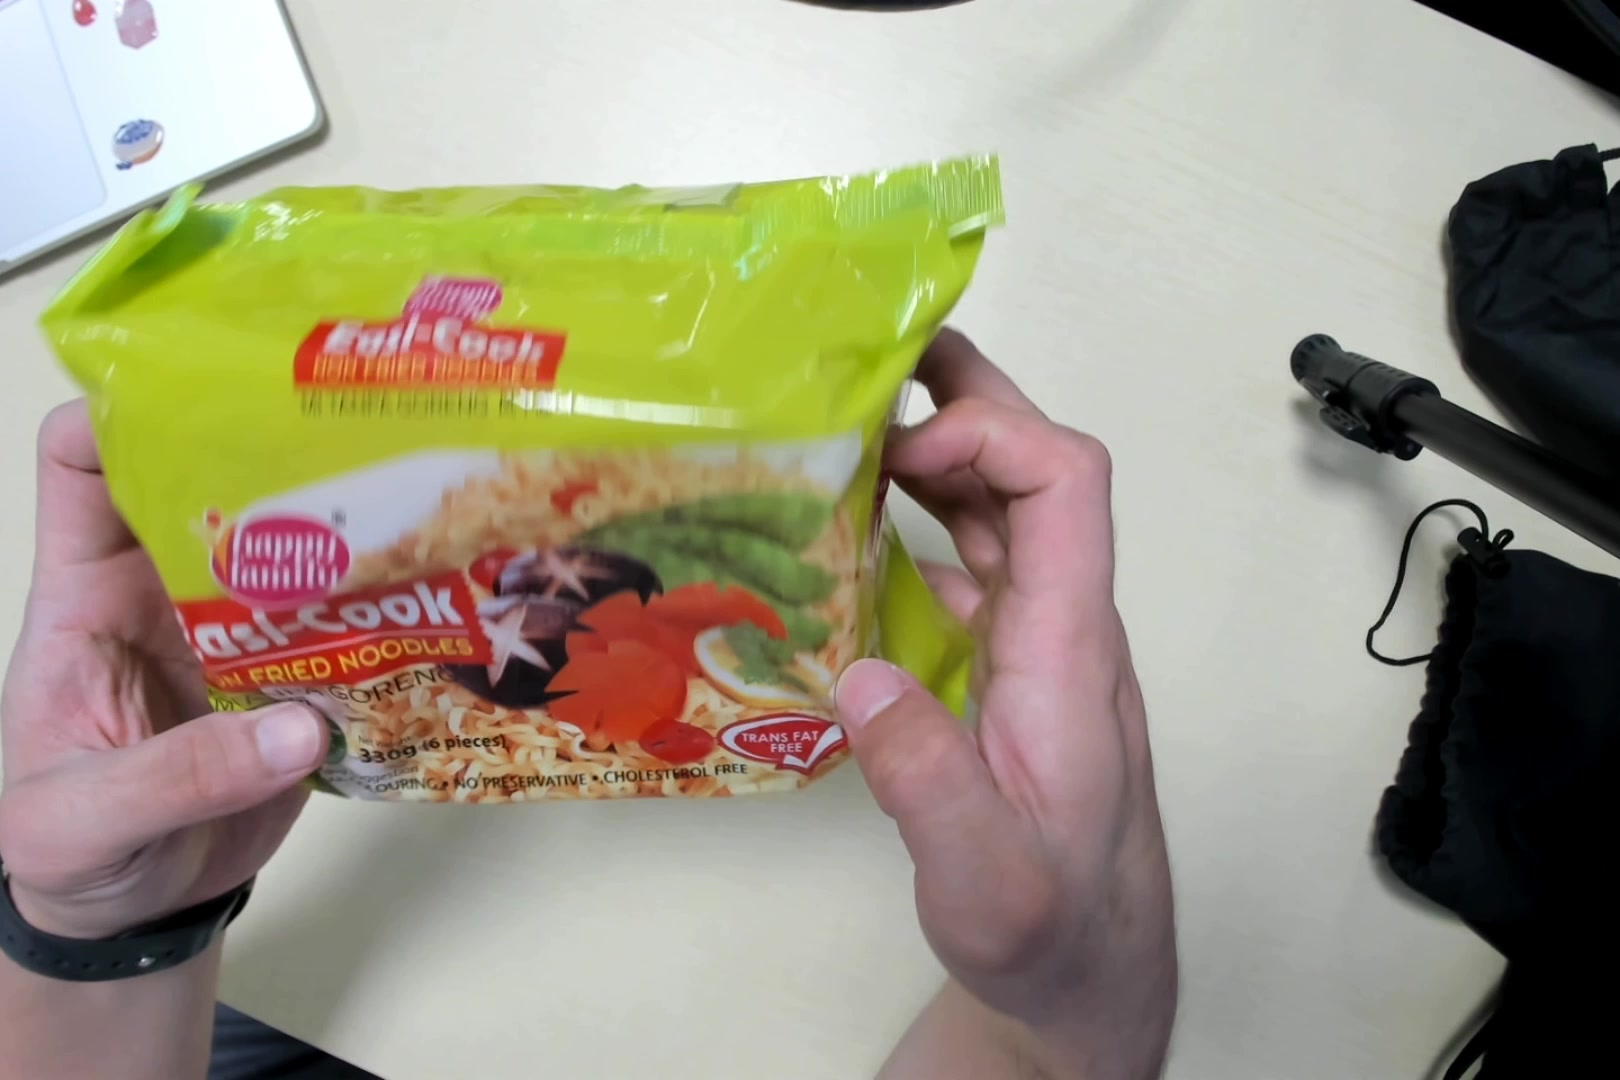OtherNoodles_300-399g_Halal_NonHealthy: (83, 196, 990, 787)
